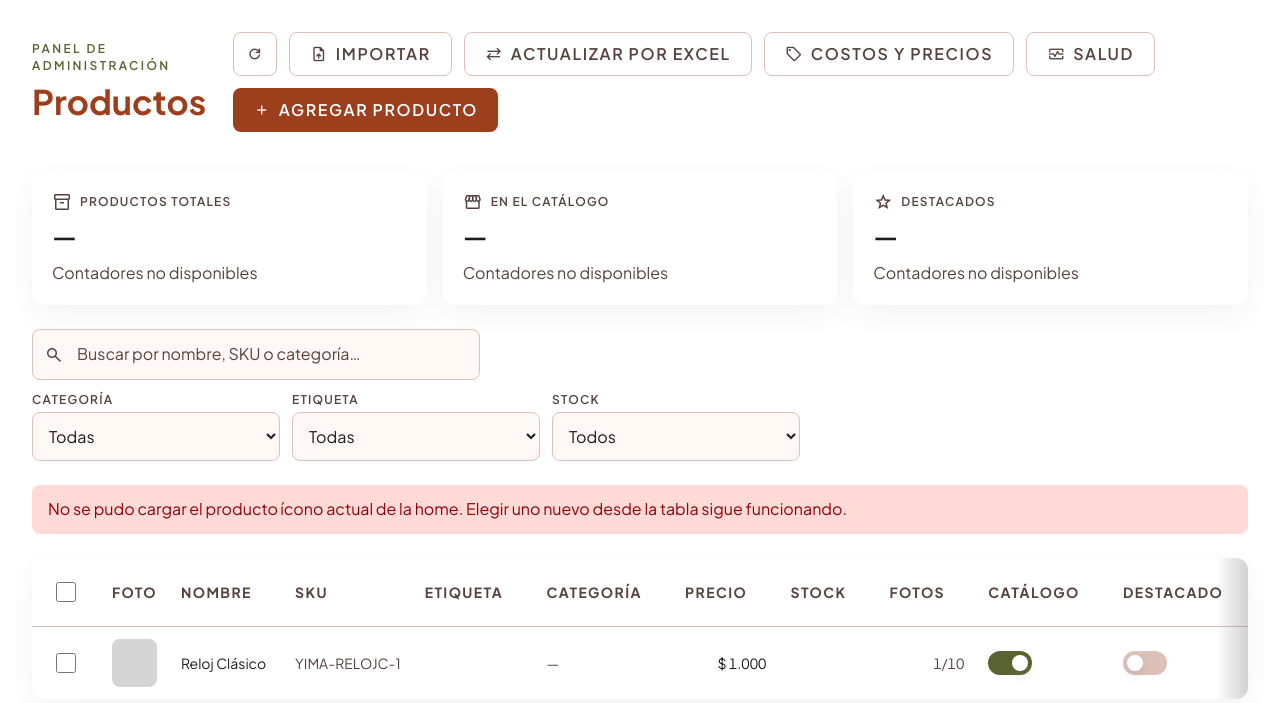
Test: AdminProductos — el producto se abre clickeándolo › el borrado en lote por checkbox sigue existiendo
Click the checkbox named "Seleccionar Reloj Clásico" at [66, 663], box [56,653,76,673]
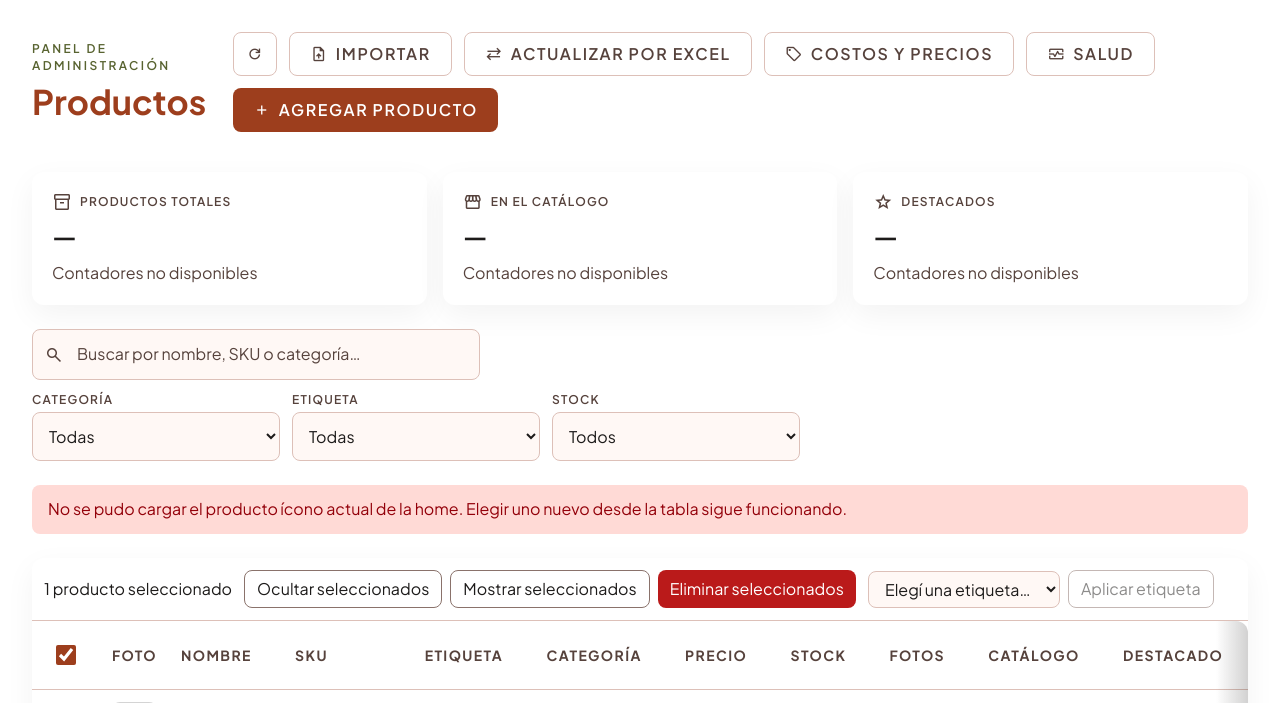
Now the button "Eliminar seleccionados" is shown, box [658,570,856,608]
